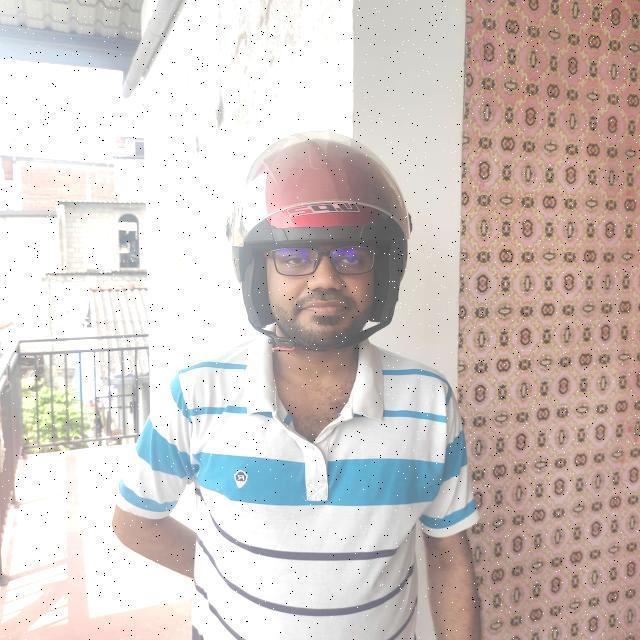helmet: (224, 130, 413, 352)
